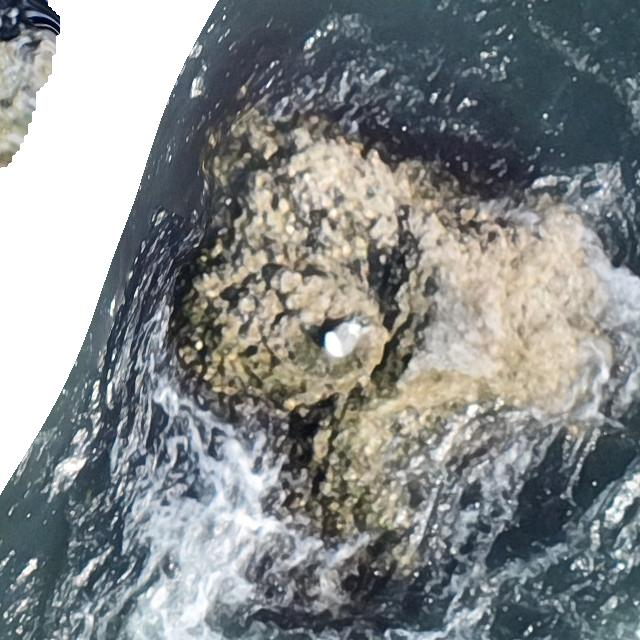umineko: (324, 325, 358, 355)
